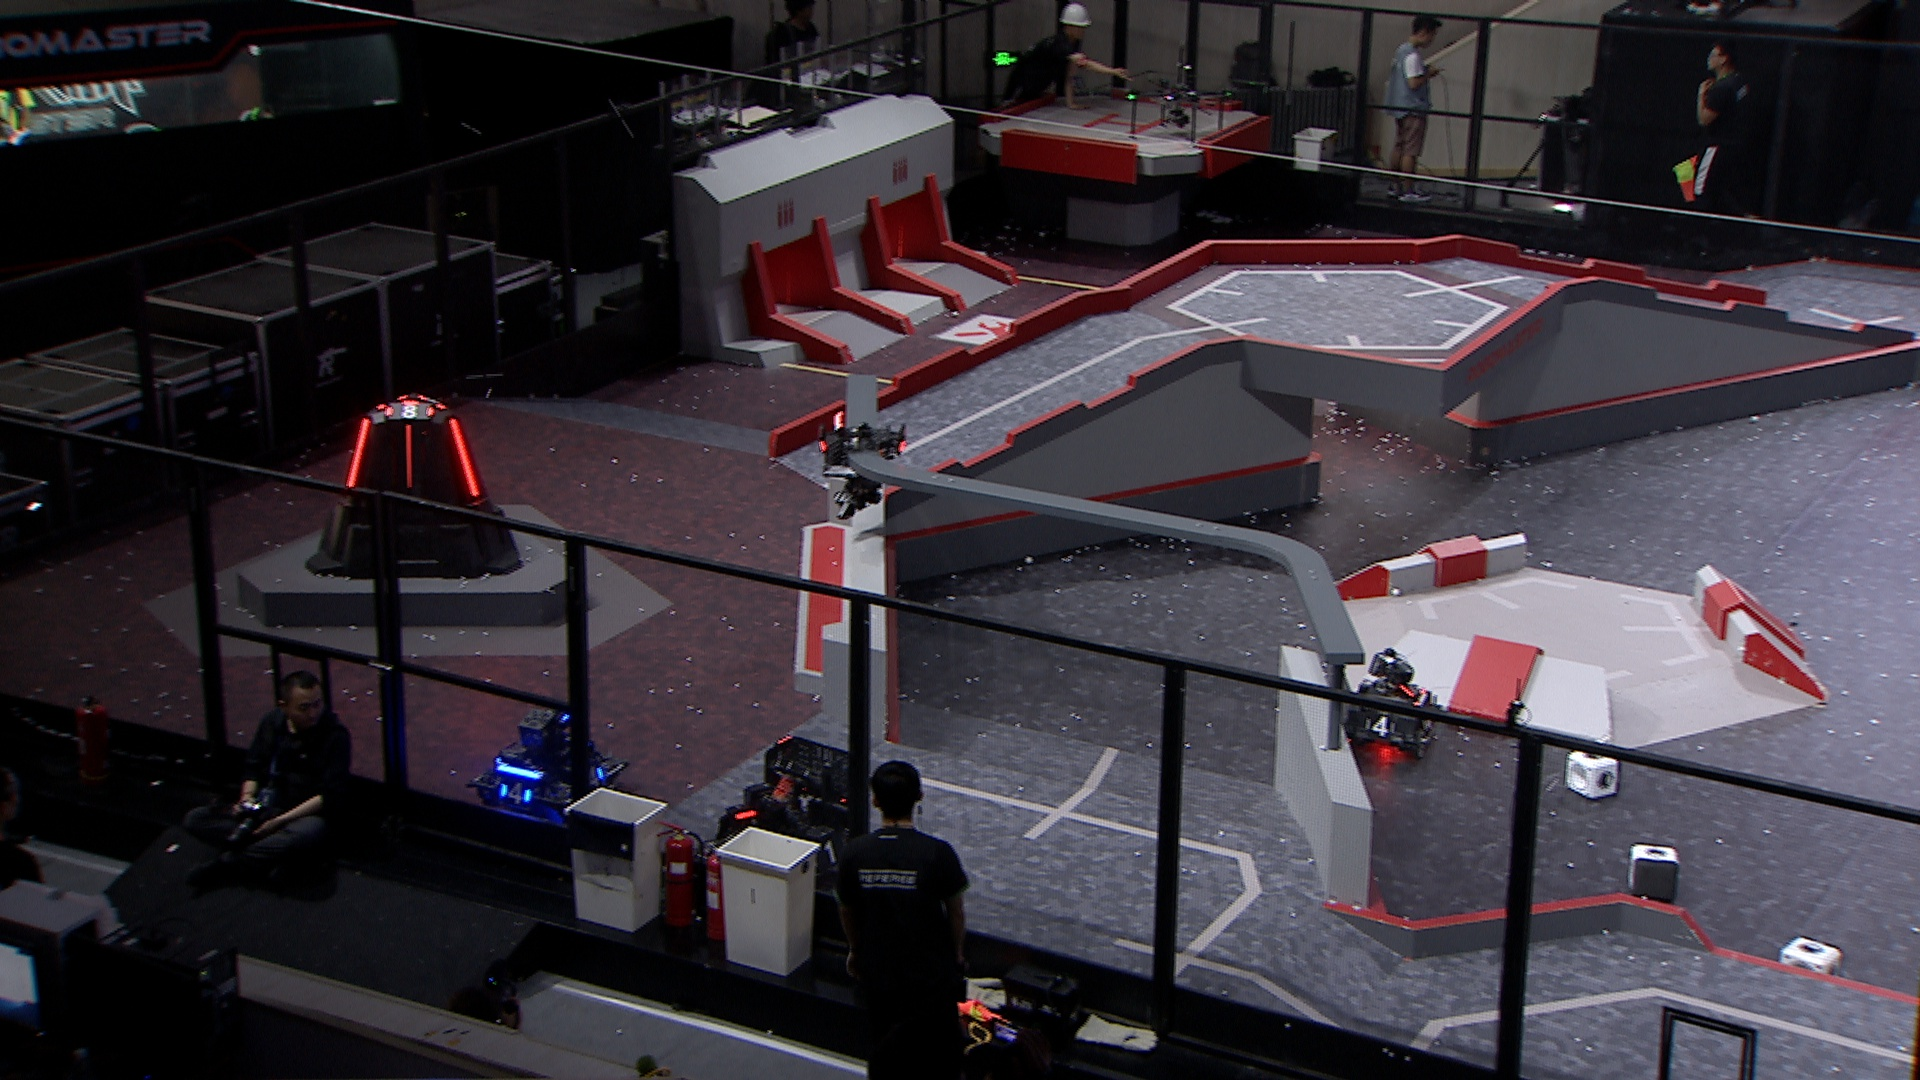armor: (448, 417, 481, 498), (343, 417, 375, 489), (384, 400, 436, 425), (814, 836, 847, 868), (500, 782, 534, 808), (404, 425, 417, 491), (1364, 716, 1396, 737), (814, 425, 829, 456)
base: (305, 394, 527, 584)
car: (702, 733, 884, 893), (465, 704, 628, 816), (1338, 651, 1443, 760)
watcher: (814, 410, 907, 522)
